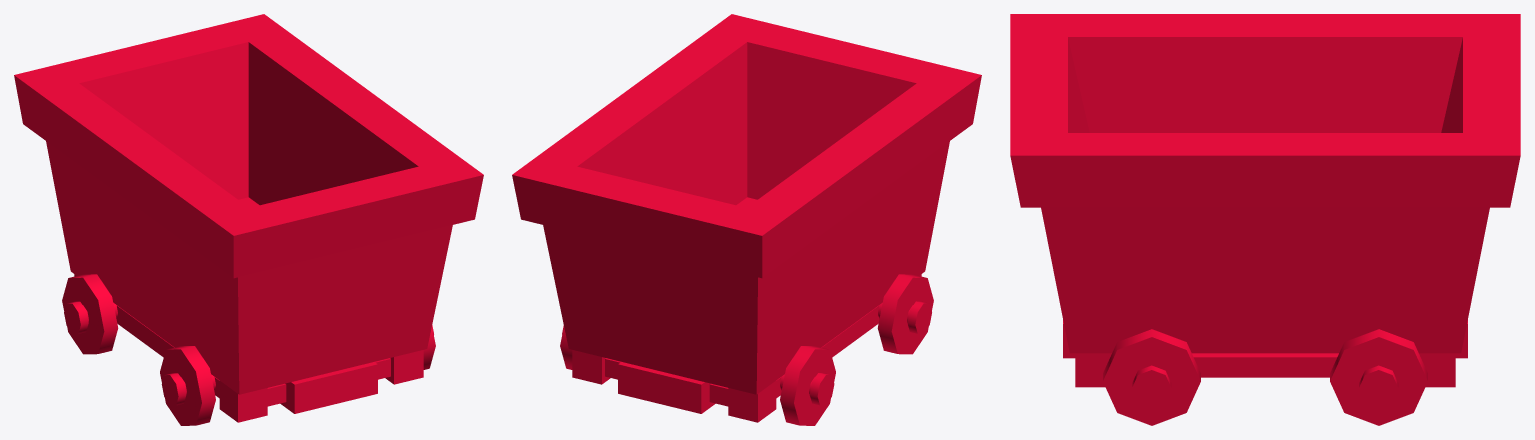
The model's file is MininCart.fbx.
3 renders of one model, left to right at view 1: azimuth 30°, elevation 25°; view 2: azimuth 150°, elevation 25°; view 3: azimuth 270°, elevation 25°, orthographic. The views are drawn at different scales.
Visible parts, largest first — view 1: MiiningRoom_MininCart.001; view 2: MiiningRoom_MininCart.001; view 3: MiiningRoom_MininCart.001.
Boxes of the visible parts, left/top/right/bottom form: MiiningRoom_MininCart.001: left=14, top=14, right=483, bottom=425; MiiningRoom_MininCart.001: left=512, top=14, right=981, bottom=425; MiiningRoom_MininCart.001: left=1010, top=14, right=1520, bottom=425.
Bounding box in the file's own units: 460 × 407 × 685.
